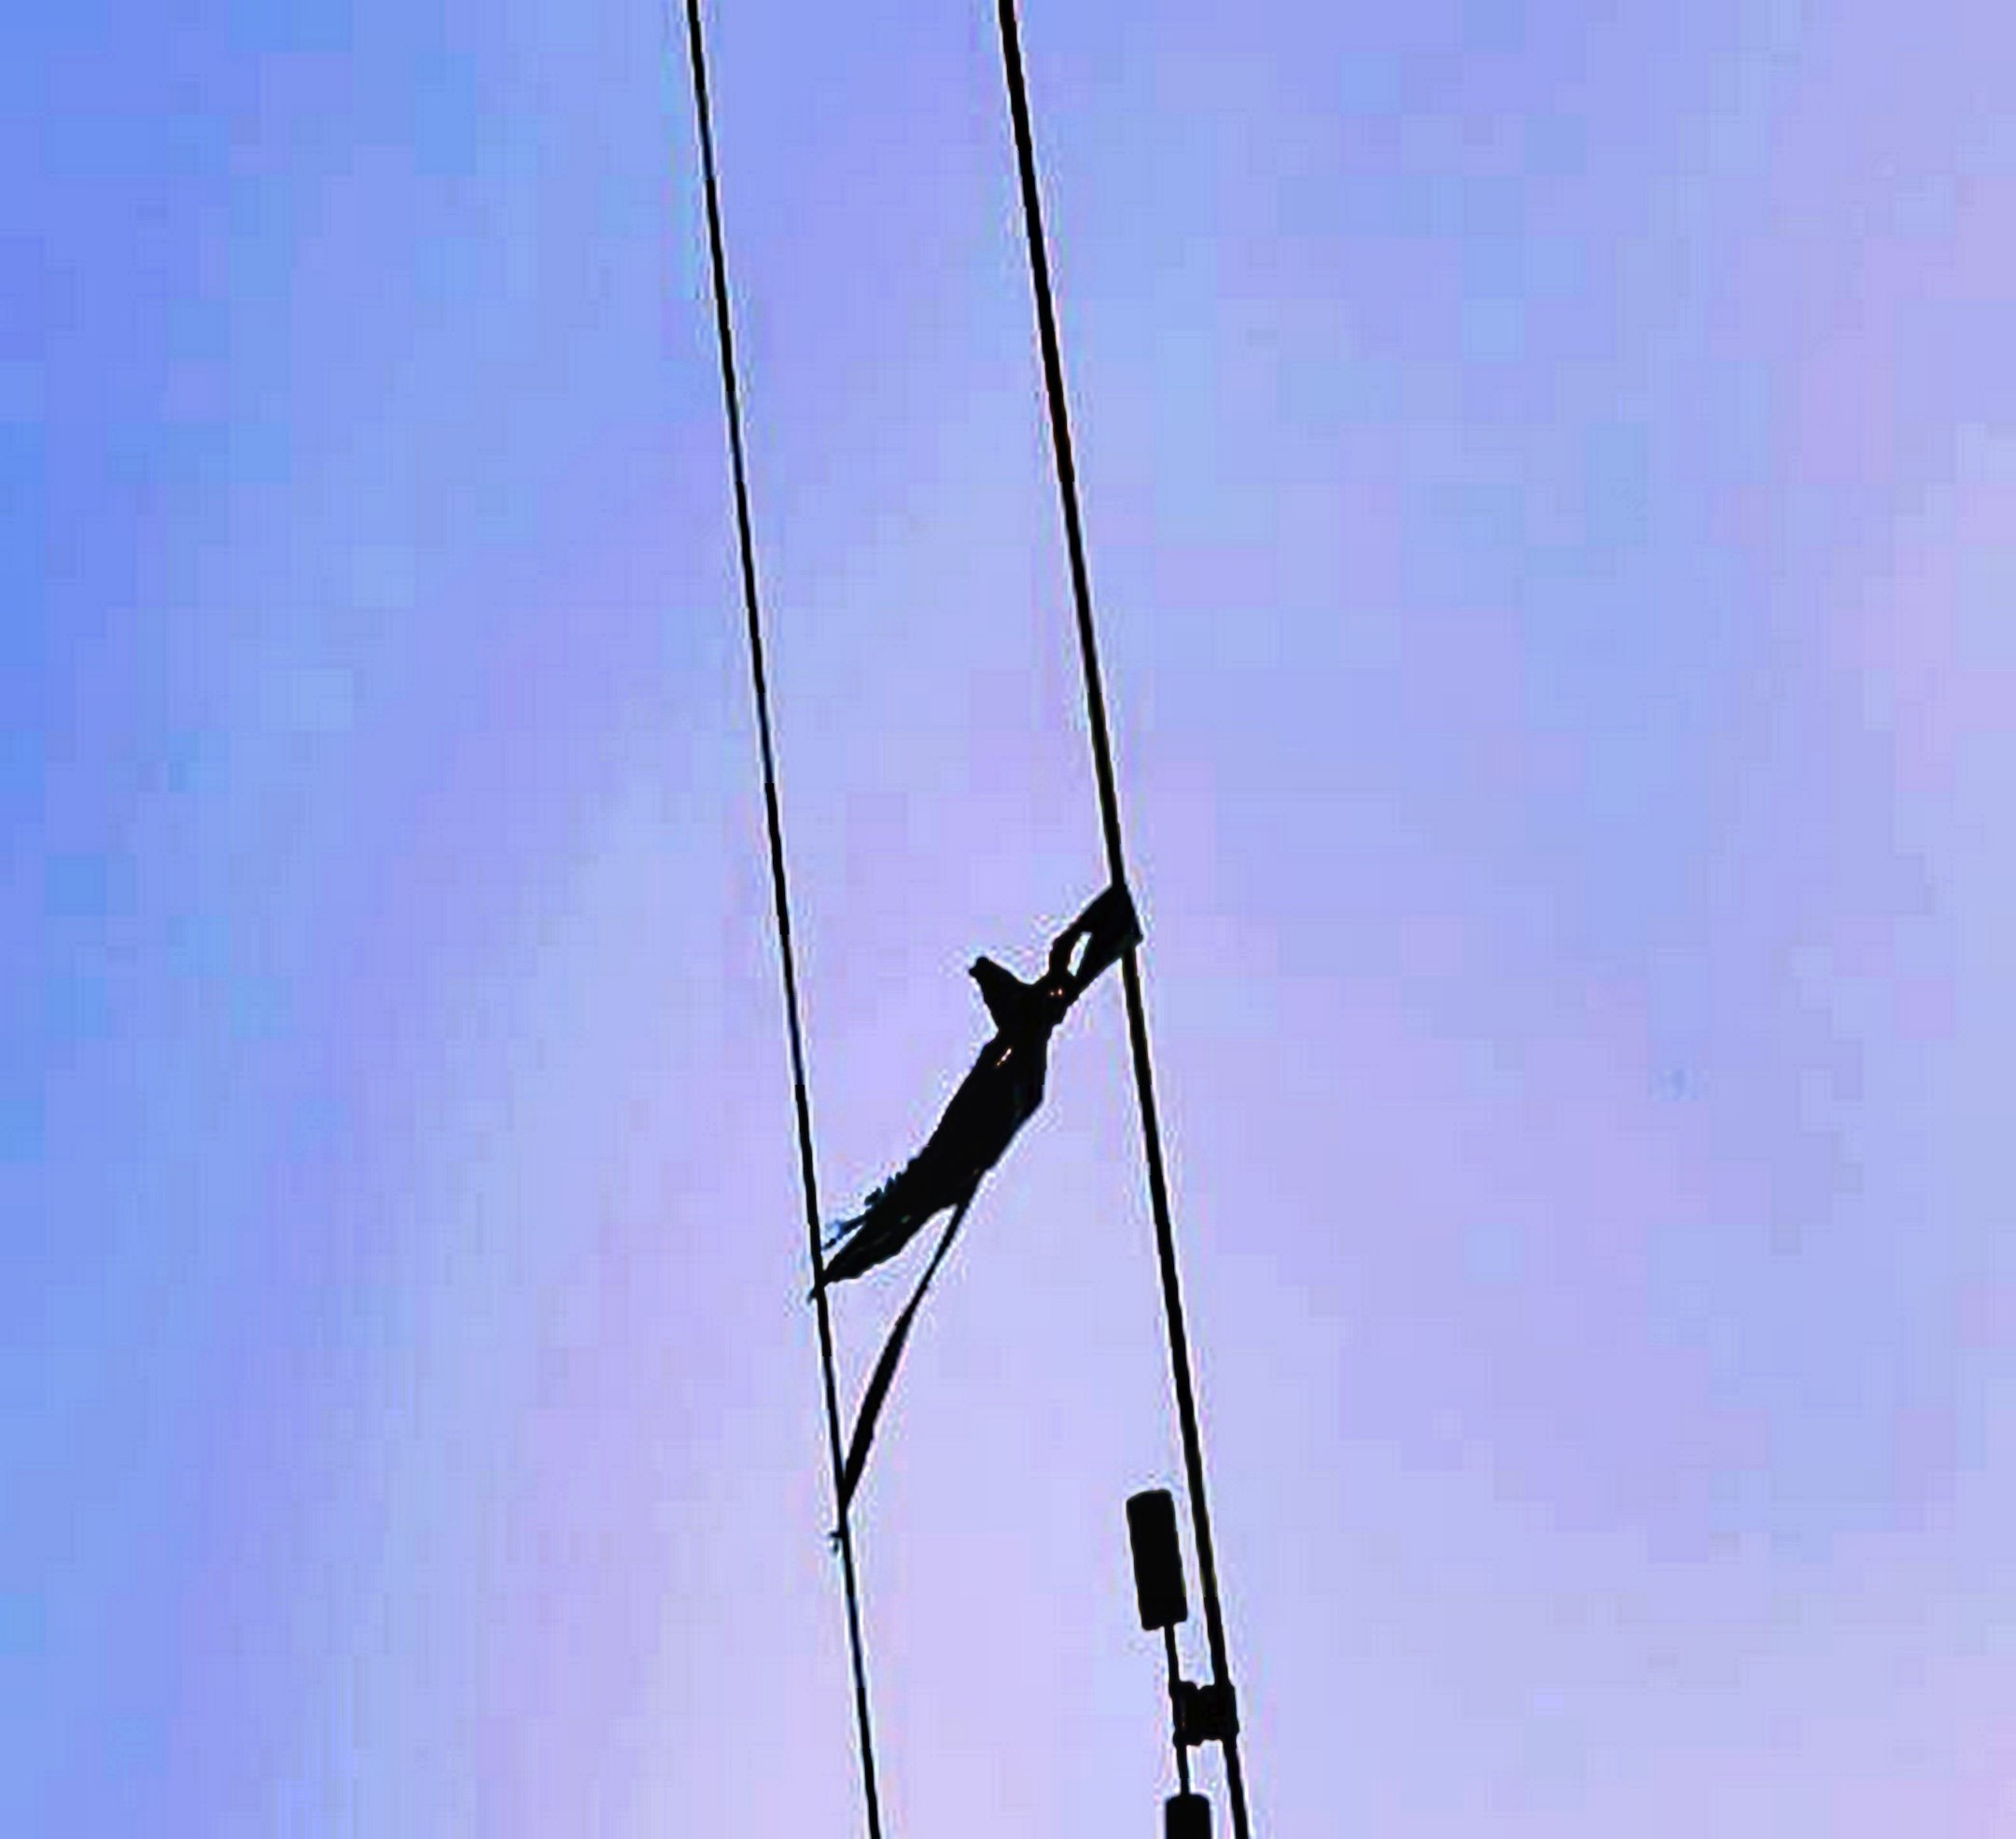wire foreign body: (752, 862, 1152, 1447)
